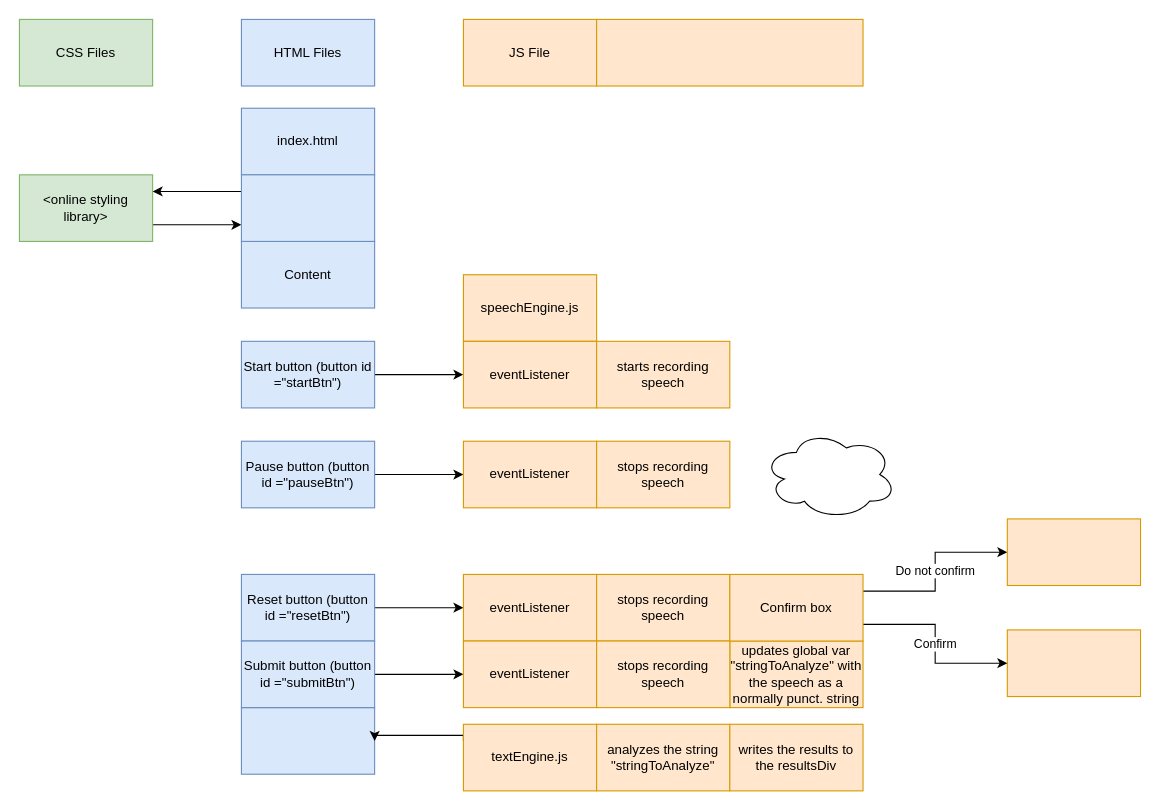
This 1160x810 diagram has some shape labels left out. The centre of each missing label's shape, as x and y in pixels:
Clears global var "stringToAnalyze": [1073,663]
Functionality: [729,52]
Icebox feature: [829,474]
Link to styling library in <head>: [307,207]
Results field (div id = "resultsDiv"): [307,740]
resumes recording speech: [1073,552]
